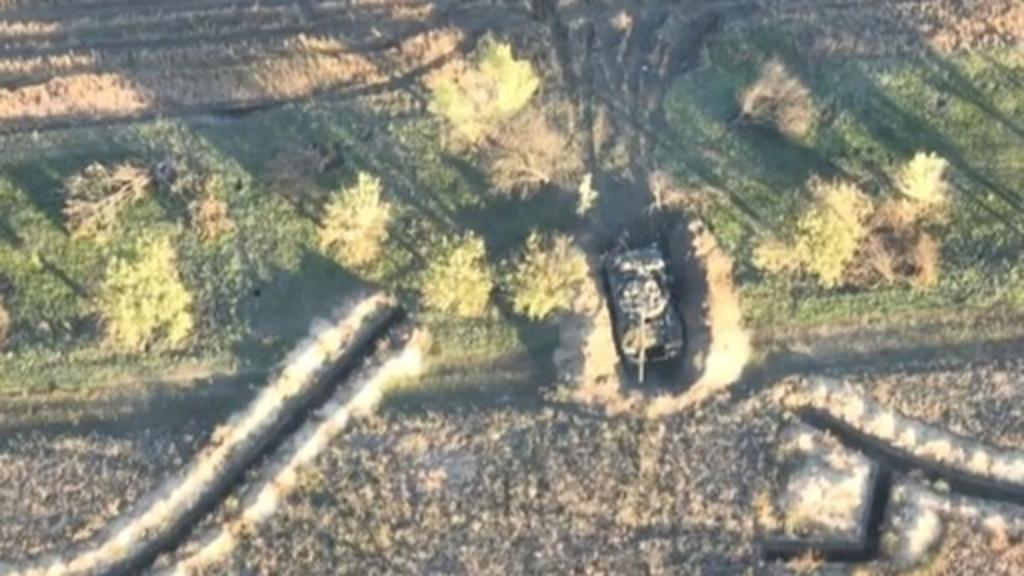TANK: (592, 236, 686, 386)
